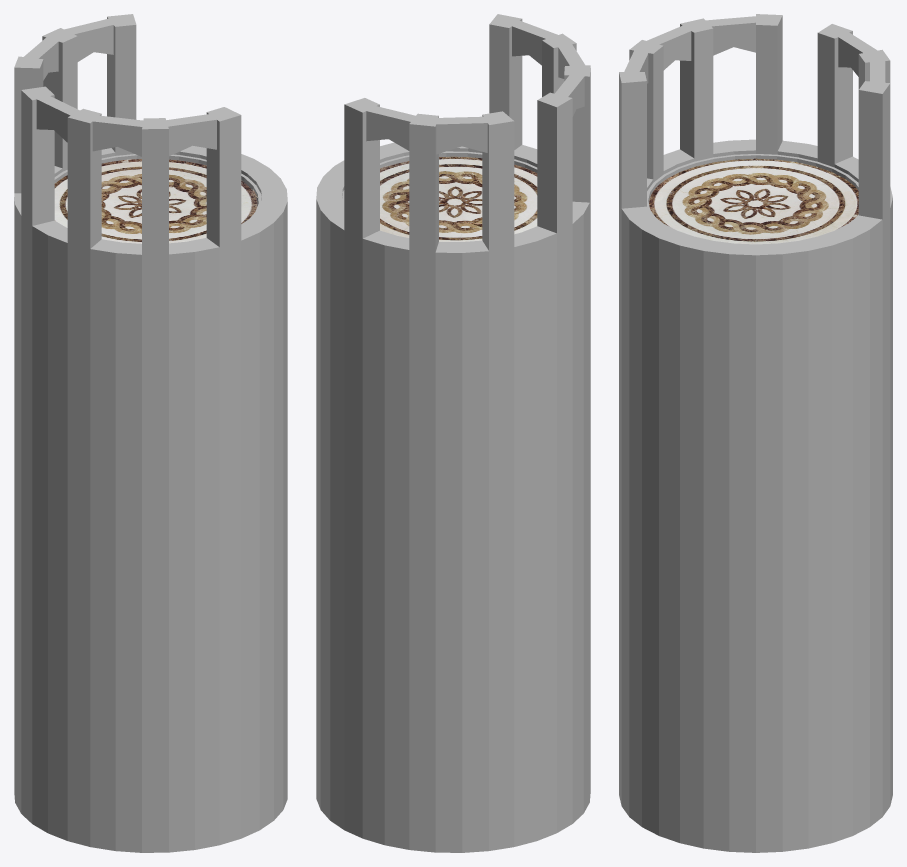
The model's file is Arena.fbx.
3 renders of one model, left to right at view 1: azimuth 30°, elevation 25°; view 2: azimuth 150°, elevation 25°; view 3: azimuth 270°, elevation 25°, orthographic.
Visible parts, largest first — view 1: Arena; view 2: Arena; view 3: Arena.
Part boxes in pixels (x1=…): Arena: x1=14, y1=14, x2=287, y2=852; Arena: x1=316, y1=14, x2=590, y2=852; Arena: x1=619, y1=14, x2=892, y2=852.
Size of the model in its own units: 2000 by 5825 by 2000.
